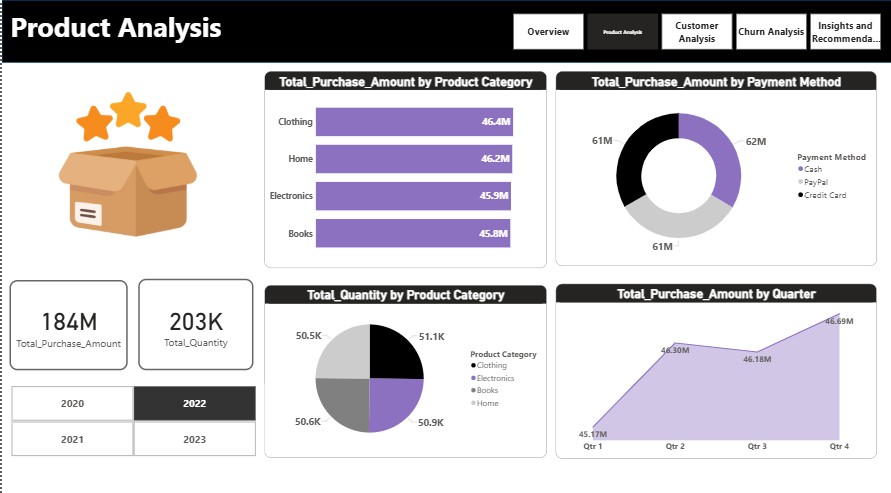

The dashboard page shown, as its layout file describes it:
{"tool":"powerbi","page":{"name":"Product Analysis","canvas":[2380,1320],"ordinal":1},"visuals":[{"type":"shape","box":[0,0,2380,167],"z":0},{"type":"textbox","box":[17.3,17.3,956.6,136.3],"z":1000},{"type":"image","box":[0,215.6,671.6,443.6],"z":2000},{"type":"card","fields":{"Values":["ecommerce_customer_data_large.Total_Purchase_Amount"]},"box":[18.6,747.4,315.4,241.2],"z":3000},{"type":"card","fields":{"Values":["ecommerce_customer_data_large.Total_Quantity"]},"box":[363.1,744.7,307.4,243.8],"z":4000},{"type":"clusteredBarChart","fields":{"Category":["ecommerce_customer_data_large.Product Category"],"Y":["ecommerce_customer_data_large.Total_Purchase_Amount"]},"box":[699.7,190.8,752.7,524.8],"z":5000},{"type":"donutChart","fields":{"Category":["ecommerce_customer_data_large.Payment Method"],"Y":["ecommerce_customer_data_large.Total_Purchase_Amount"]},"box":[1476.2,190.8,856.1,519.5],"z":6000},{"type":"stackedAreaChart","fields":{"Category":["ecommerce_customer_data_large.Purchase Date.Variation.Date Hierarchy.Quarter"],"Y":["ecommerce_customer_data_large.Total_Purchase_Amount"]},"box":[1476.2,755.3,856.1,466.5],"z":7000},{"type":"pieChart","fields":{"Category":["ecommerce_customer_data_large.Product Category"],"Y":["ecommerce_customer_data_large.Total_Quantity"]},"box":[699.7,760.6,752.7,461.2],"z":8000},{"type":"slicer","fields":{"Values":["ecommerce_customer_data_large.Purchase Date.Variation.Date Hierarchy.Year"]},"box":[0,1023,699.7,198.8],"z":9000},{"type":"pageNavigator","box":[1364.9,37.1,980.6,95.4],"z":10000}]}

Visuals, with their boxes in screenshot pixels (x1, y1, x2, y2), scaled from the page's 2380x1320 canvas onto the 891x493 screenshot:
shape: 0:0:890:62
textbox: 6:6:365:57
image: 0:81:251:246
card - ecommerce_customer_data_large.Total_Purchase_Amount: 7:279:125:369
card - ecommerce_customer_data_large.Total_Quantity: 136:278:251:369
clusteredBarChart - ecommerce_customer_data_large.Product Category x ecommerce_customer_data_large.Total_Purchase_Amount: 262:71:544:267
donutChart - ecommerce_customer_data_large.Payment Method x ecommerce_customer_data_large.Total_Purchase_Amount: 553:71:873:265
stackedAreaChart - ecommerce_customer_data_large.Purchase Date.Variation.Date Hierarchy.Quarter x ecommerce_customer_data_large.Total_Purchase_Amount: 553:282:873:456
pieChart - ecommerce_customer_data_large.Product Category x ecommerce_customer_data_large.Total_Quantity: 262:284:544:456
slicer - ecommerce_customer_data_large.Purchase Date.Variation.Date Hierarchy.Year: 0:382:262:456
pageNavigator: 511:14:878:49
